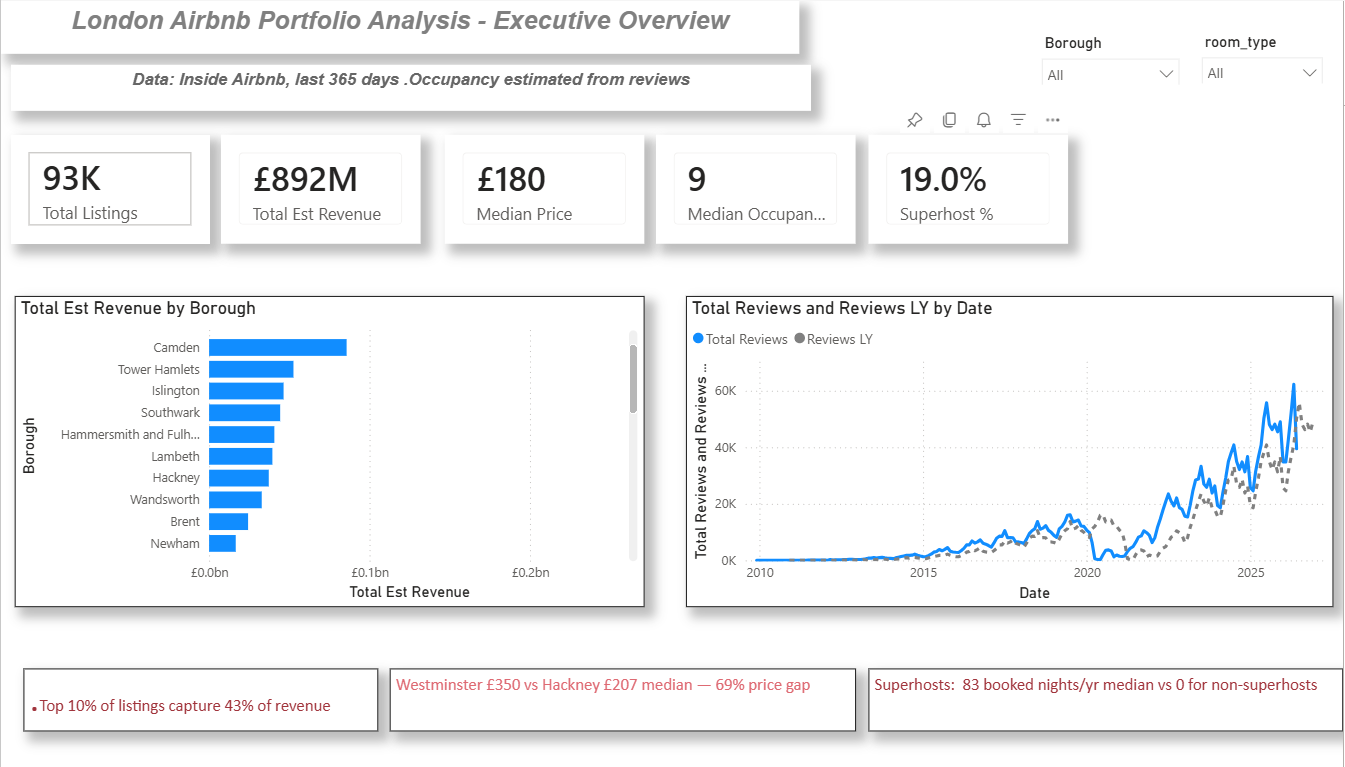

What the dashboard file says about the page in this screenshot:
{"tool":"powerbi","page":{"name":"Executive Overview","canvas":[1280,720],"ordinal":0},"visuals":[{"type":"textbox","box":[0,0,761.6,50.8],"z":0},{"type":"textbox","box":[9.8,61.1,763,44],"z":1000},{"type":"cardVisual","fields":{"Data":["Measures (2).Total Listings"]},"box":[9.8,127.2,189.5,103.9],"z":2000},{"type":"cardVisual","fields":{"Data":["Measures (2).Total Est Revenue"]},"box":[210.3,127.2,190.8,103.9],"z":3000},{"type":"cardVisual","fields":{"Data":["Measures (2).Median Price"]},"box":[423.1,127.2,190.8,103.9],"z":4000},{"type":"cardVisual","fields":{"Data":["Measures (2).Median Occupancy"]},"box":[624.9,127.2,190.8,103.9],"z":5000},{"type":"cardVisual","fields":{"Data":["Measures (2).Superhost %"]},"box":[827.9,127.2,190.8,103.9],"z":6000},{"type":"clusteredBarChart","fields":{"Category":["listings_clean.Borough"],"Y":["Measures (2).Total Est Revenue"]},"box":[13.5,281.3,600.4,297.1],"z":7000},{"type":"lineChart","fields":{"Category":["DimDate.Date"],"Y":["Measures (2).Total Reviews","Measures (2).Reviews LY"]},"box":[653,281.3,617.5,297.1],"z":8000},{"type":"textbox","box":[22,637.1,338.7,59.9],"z":9000},{"type":"textbox","box":[370.5,637.1,445.1,59.9],"z":10000},{"type":"textbox","box":[827.9,637.1,452.4,59.9],"z":11000},{"type":"slicer","fields":{"Values":["listings_clean.room_type"]},"box":[1134.8,24.5,135.7,53.8],"z":12000},{"type":"slicer","fields":{"Values":["listings_clean.Borough"]},"box":[983.2,25.7,151.6,53.8],"z":13000}]}

Visuals, with their boxes in screenshot pixels (x1, y1, x2, y2), scaled from the page's 1280x720 canvas onto the 1345x767 screenshot:
textbox: box=[0, 0, 800, 54]
textbox: box=[10, 65, 812, 112]
cardVisual - Measures (2).Total Listings: box=[10, 136, 209, 246]
cardVisual - Measures (2).Total Est Revenue: box=[221, 136, 421, 246]
cardVisual - Measures (2).Median Price: box=[445, 136, 645, 246]
cardVisual - Measures (2).Median Occupancy: box=[657, 136, 857, 246]
cardVisual - Measures (2).Superhost %: box=[870, 136, 1070, 246]
clusteredBarChart - listings_clean.Borough x Measures (2).Total Est Revenue: box=[14, 300, 645, 616]
lineChart - DimDate.Date x Measures (2).Total Reviews: box=[686, 300, 1335, 616]
textbox: box=[23, 679, 379, 742]
textbox: box=[389, 679, 857, 742]
textbox: box=[870, 679, 1344, 742]
slicer - listings_clean.room_type: box=[1192, 26, 1335, 83]
slicer - listings_clean.Borough: box=[1033, 27, 1192, 85]
